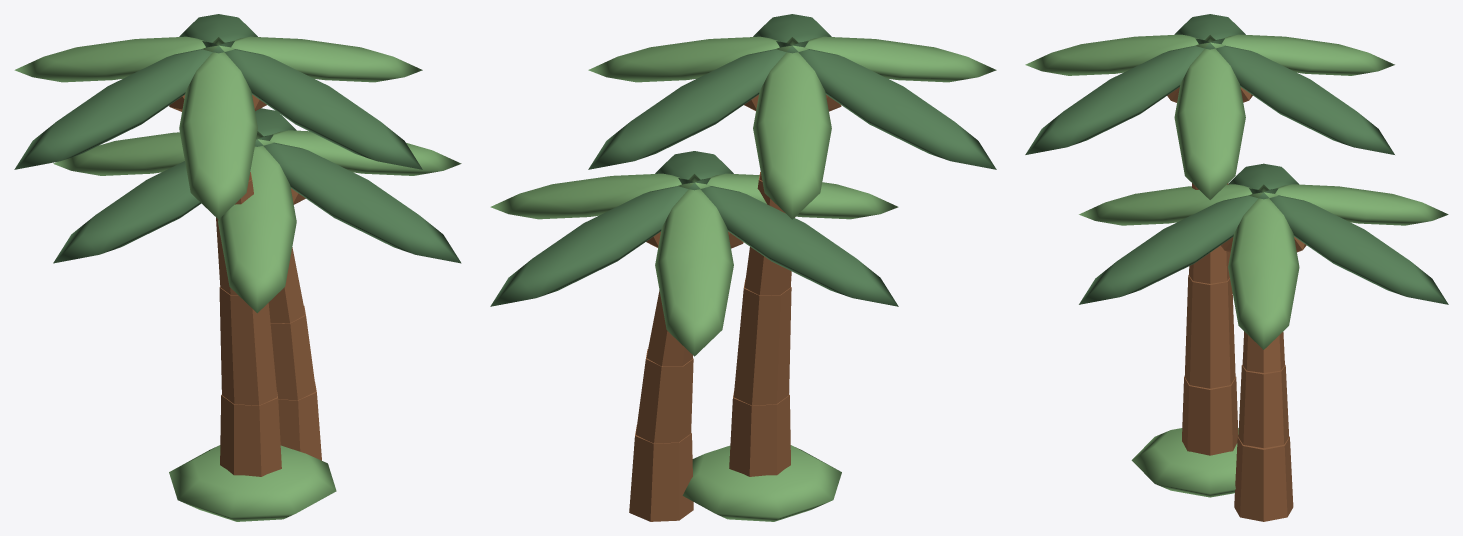
Rendered from DW_Palm_B.fbx.
The picture shows the model from 3 angles, left to right: view 1: azimuth 30°, elevation 25°; view 2: azimuth 150°, elevation 25°; view 3: azimuth 270°, elevation 25°; orthographic projection. The views are drawn at different scales.
Parts seen in each view (by area): view 1: DW_Palm_B; view 2: DW_Palm_B; view 3: DW_Palm_B.
Boxes of the visible parts, x1,y1,x2,y2 form: DW_Palm_B: (14, 14, 461, 521); DW_Palm_B: (490, 14, 996, 521); DW_Palm_B: (1025, 14, 1448, 521).
Bounding box in the file's own units: 1.4 × 1.31 × 1.19.
